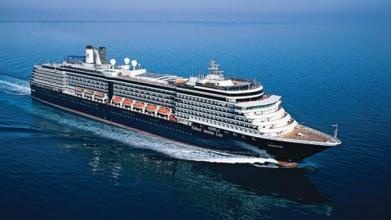youlun: (29, 40, 341, 161)
